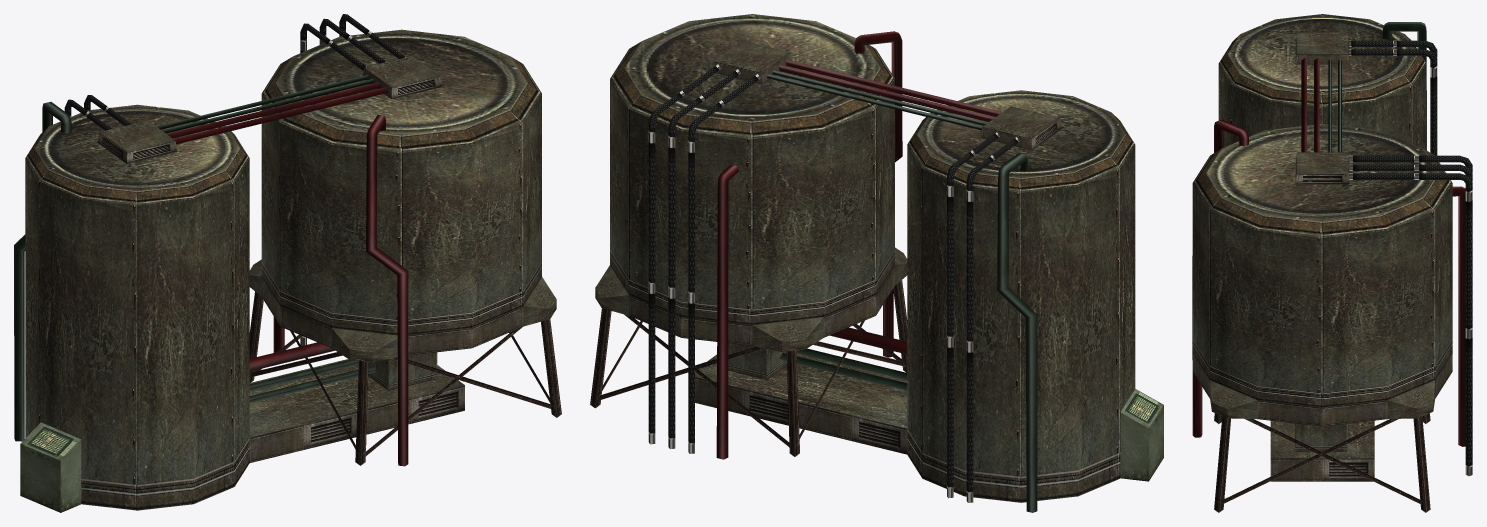
The model's file is liquid_tanks_1.fbx.
The picture shows the model from 3 angles, left to right: view 1: azimuth 30°, elevation 25°; view 2: azimuth 150°, elevation 25°; view 3: azimuth 270°, elevation 25°; orthographic projection. The views are drawn at different scales.
Visible parts, largest first — view 1: mesh_1, mesh_0, mesh_7, mesh_6, mesh_11, mesh_9, mesh_2, mesh_10, mesh_23, mesh_17, mesh_3, mesh_8 (+7 smaller); view 2: mesh_1, mesh_0, mesh_11, mesh_12, mesh_7, mesh_13, mesh_14, mesh_15, mesh_9, mesh_21, mesh_16, mesh_2 (+13 smaller); view 3: mesh_0, mesh_1, mesh_14, mesh_12, mesh_9, mesh_10, mesh_24, mesh_2, mesh_16, mesh_6, mesh_17, mesh_21 (+7 smaller).
Part boxes in pixels (x1,y1,x2,y2): mesh_1: (25,104,464,510); mesh_0: (249,29,556,362); mesh_7: (20,422,81,512); mesh_6: (366,115,408,466); mesh_11: (14,102,71,441); mesh_9: (249,291,561,465); mesh_2: (97,120,177,163); mesh_10: (362,56,441,99); mesh_23: (255,327,551,456); mesh_17: (368,352,437,390); mesh_3: (173,87,388,144); mesh_8: (167,82,381,138); mesh_1: (695,90,1135,502); mesh_0: (595,14,907,351); mesh_11: (997,153,1037,512); mesh_12: (716,165,738,459); mesh_7: (1120,389,1163,481); mesh_13: (668,69,740,449); mesh_14: (648,64,720,444); mesh_15: (966,137,1019,502); mesh_9: (590,280,907,456); mesh_21: (688,74,760,453); mesh_16: (947,132,999,498); mesh_2: (980,106,1061,150); mesh_0: (1192,124,1452,426); mesh_1: (1218,14,1426,481); mesh_14: (1348,173,1472,476); mesh_12: (1452,186,1465,446); mesh_9: (1214,413,1430,512); mesh_10: (1295,152,1349,184); mesh_24: (1223,416,1422,504); mesh_2: (1295,32,1349,64); mesh_16: (1348,49,1437,155); mesh_6: (1192,119,1248,437); mesh_17: (1295,423,1347,451); mesh_21: (1348,155,1472,173).
Bounding box in the file's own units: 783 × 488 × 404.
Materials: 1 (1 with a texture image).
